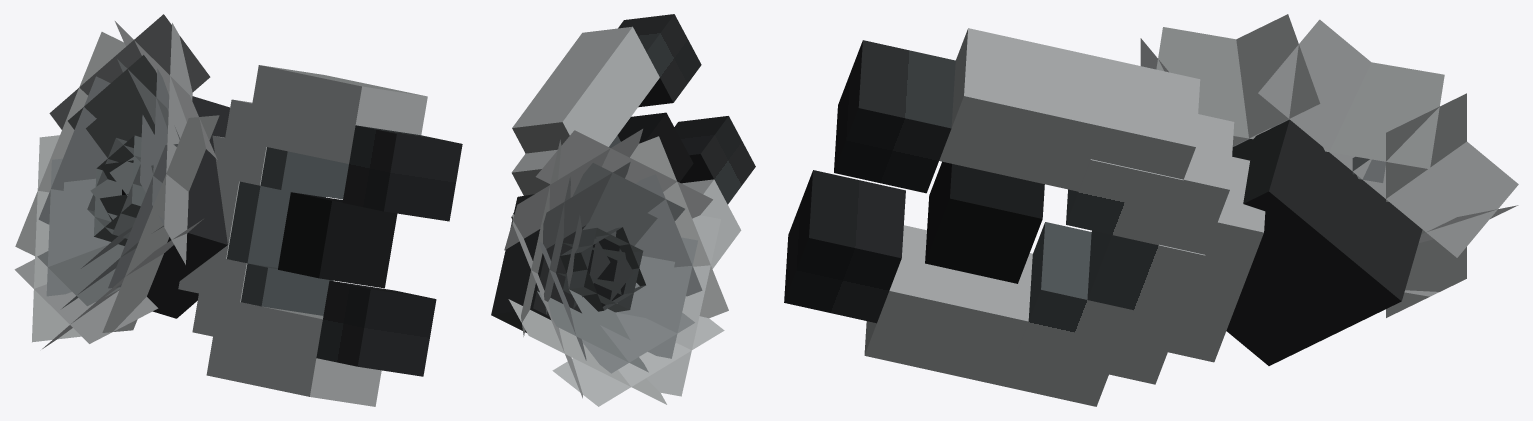
Rendered from hyper_flower.obj.
The picture shows the model from 3 angles, left to right: view 1: azimuth 30°, elevation 25°; view 2: azimuth 150°, elevation 25°; view 3: azimuth 270°, elevation 25°; orthographic projection. The views are drawn at different scales.
Visible parts, largest first — view 1: cube, Base, cube3, cube2, cube4, cube5; view 2: cube, Base, cube3, cube2, Base2, cube4, cube1, cube5; view 3: cube, Base.
Part boxes in pixels (x1,y1,x2,y2): cube: (14,14,462,406); Base: (147,96,229,318); cube3: (96,135,153,238); cube2: (87,135,145,220); cube4: (88,179,140,245); cube5: (93,168,111,236); cube: (504,14,755,406); Base: (491,194,585,332); cube3: (563,227,645,290); cube2: (570,228,642,311); Base2: (560,238,625,306); cube4: (557,251,645,310); cube1: (560,227,622,308); cube5: (563,287,629,312); cube: (784,14,1518,406); Base: (1226,119,1422,365).
Size of the model in its own units: 0.2355 by 0.2876 by 0.4774.
